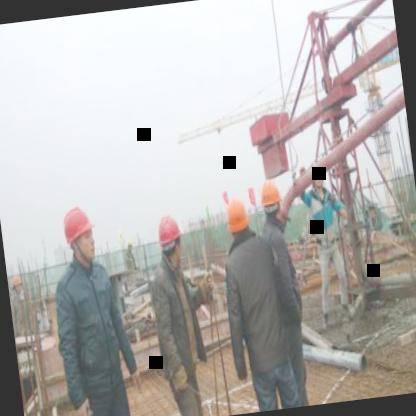helmet: (57, 199, 101, 268), (152, 207, 188, 273), (223, 190, 252, 243), (256, 176, 284, 226), (9, 270, 25, 298)
